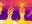Hotspot: (0, 2, 2, 14), (20, 14, 24, 18), (20, 3, 24, 7), (0, 20, 4, 23), (13, 21, 17, 23)
